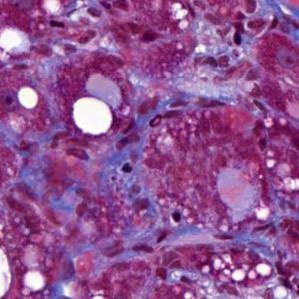inflammation: (228, 6, 255, 54), (113, 154, 139, 181), (166, 205, 189, 228)
